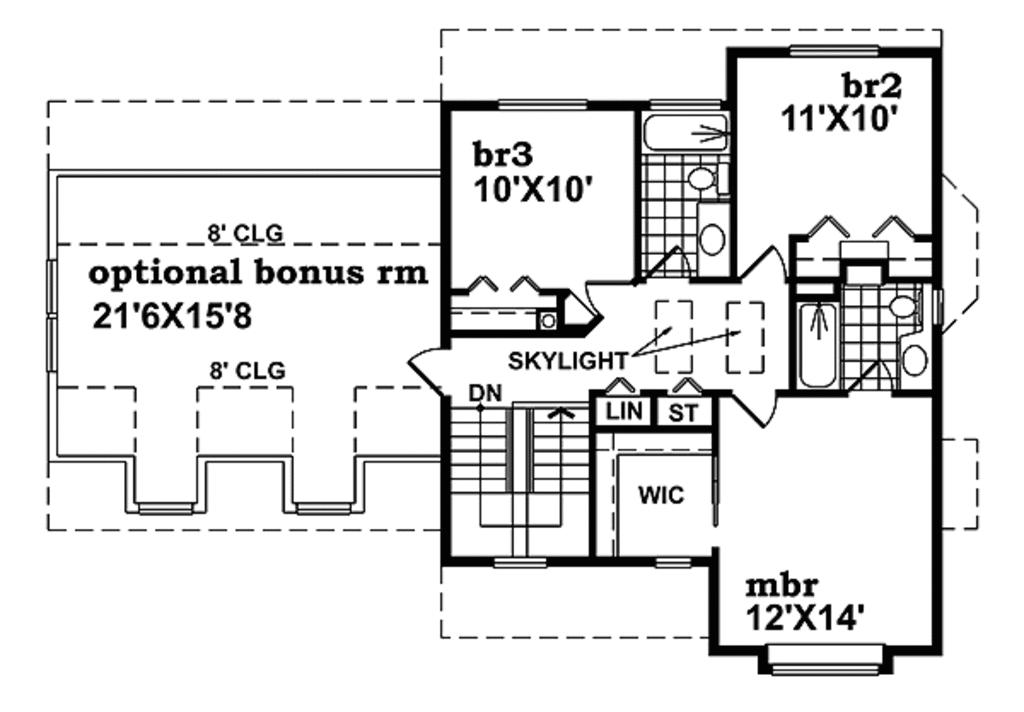door: (573, 269, 636, 321), (407, 339, 458, 403), (732, 384, 786, 429), (848, 352, 900, 398), (744, 240, 794, 284)
large_sink: (890, 279, 941, 325), (689, 159, 741, 198)
small_sink: (695, 197, 737, 279), (904, 334, 932, 392)
stairs: (449, 400, 591, 560)
tub: (642, 108, 734, 160), (796, 296, 840, 395)
window: (36, 260, 64, 379), (789, 35, 883, 65), (497, 88, 589, 118), (482, 544, 554, 579), (649, 89, 727, 112), (292, 493, 355, 519), (128, 497, 198, 518), (653, 551, 695, 574)
